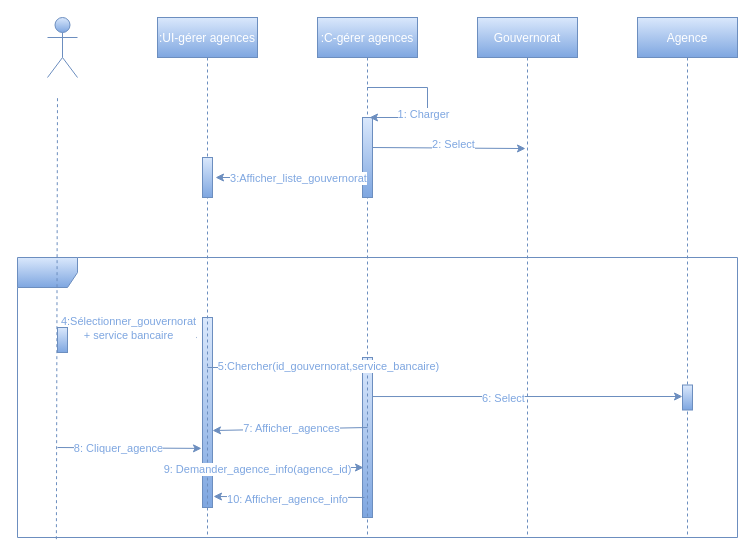
Image size: 755x558. Some labels were removed from this diagram. Here are the shapes that lost their labels. From the top down, the box of each, then its label:
(46, 16, 78, 78): Admin
(16, 256, 738, 538): Opt
